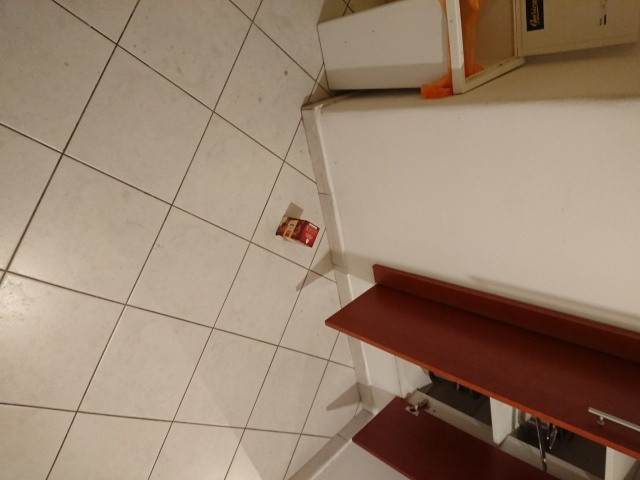Franck Apple Cinnamon Tea 60g: (272, 212, 322, 250)
